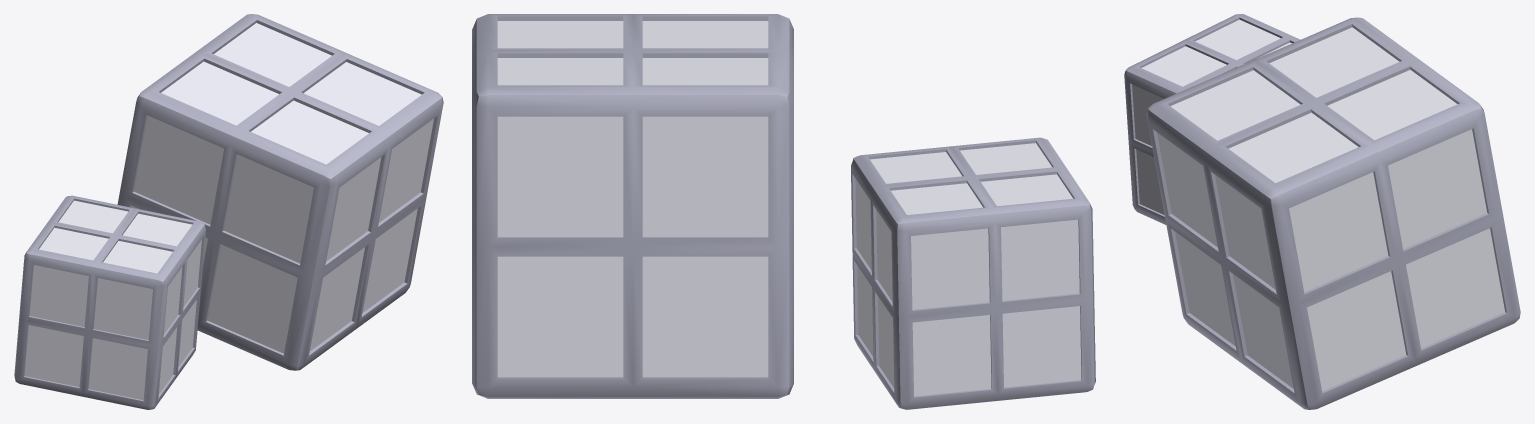
Rendered from Boxes_2.fbx.
3 renders of one model, left to right at view 1: azimuth 30°, elevation 25°; view 2: azimuth 150°, elevation 25°; view 3: azimuth 270°, elevation 25°, orthographic. The views are drawn at different scales.
Visible parts, largest first — view 1: Boxes_2; view 2: Boxes_2; view 3: Boxes_2.
Part boxes in pixels (box(x1,y1,x2,y2)): Boxes_2: box(14, 14, 443, 409); Boxes_2: box(472, 14, 1095, 409); Boxes_2: box(1124, 14, 1520, 409).
Bounding box in the file's own units: 11.35 × 6 × 8.07.
